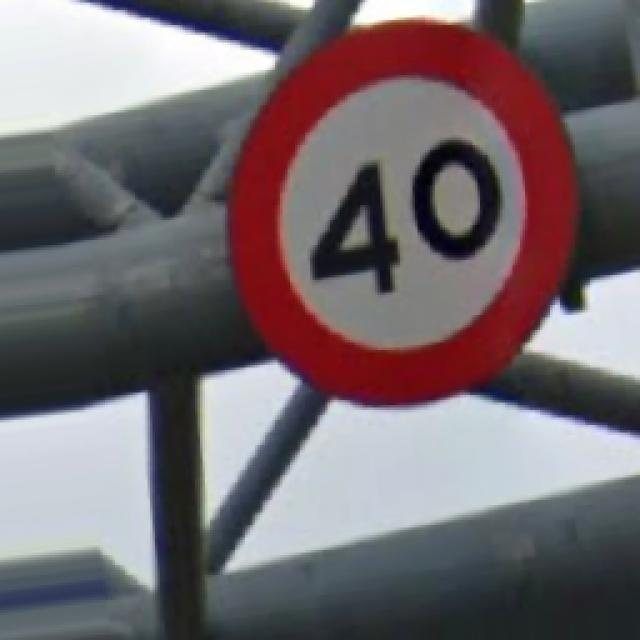Speed Limit -40-: (232, 22, 575, 400)
